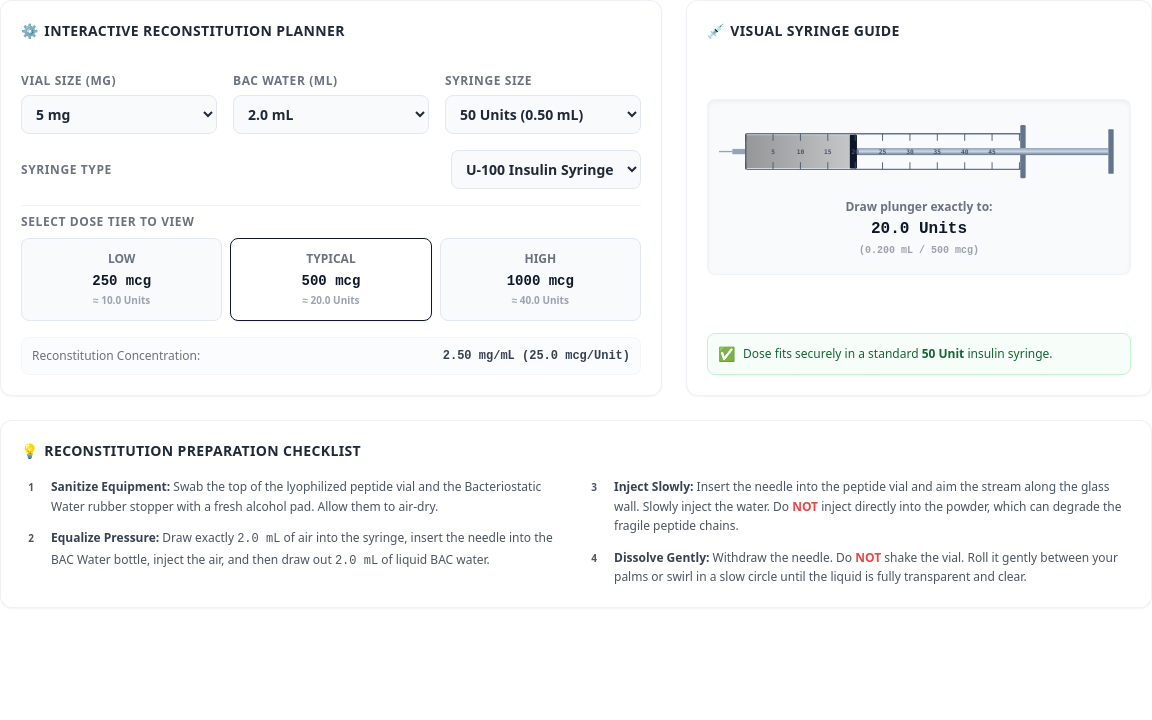
Test: DosingReconstitutionPlanner Client Component › re-calculates correctly when Low tier is clicked
Click the button with id "dose-tier-low" at [122, 280], box [21,238,222,321]
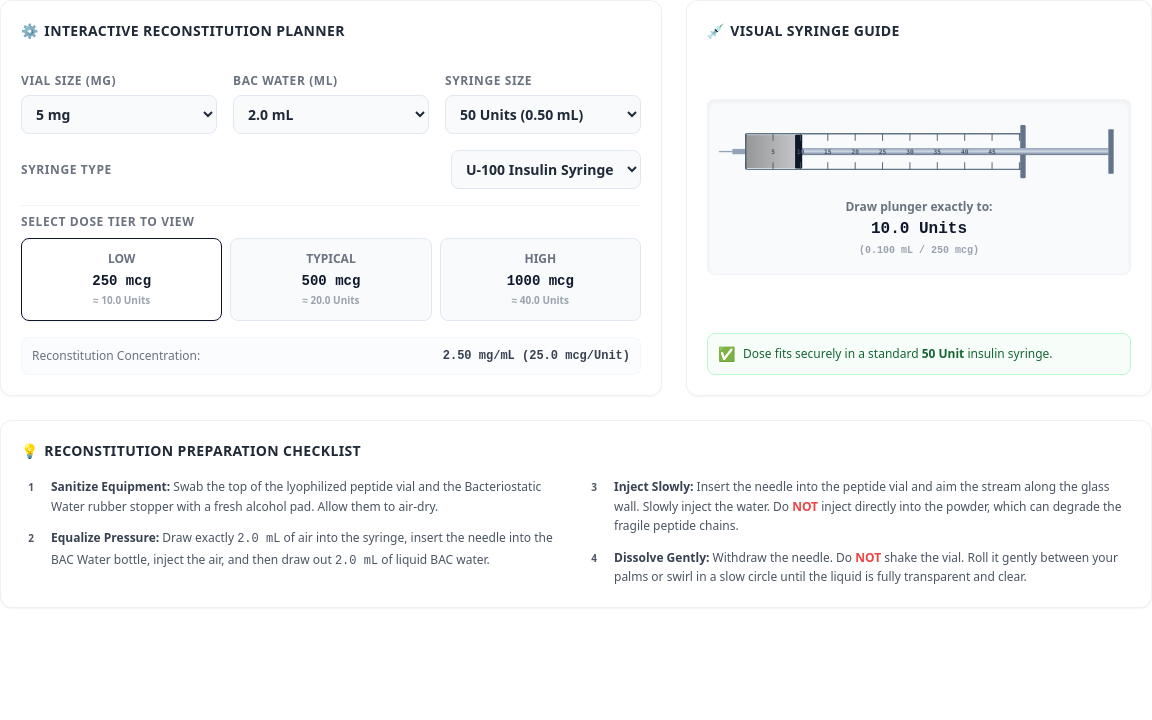
Check: the text with id "draw-units-text" reads "10.0 Units", box [871,220,967,238]
